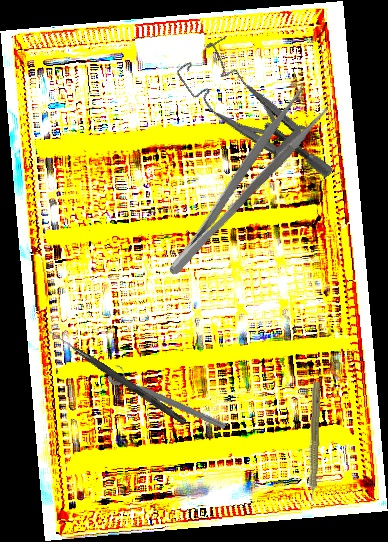Dressing Forceps: (149, 84, 332, 281)
Fixation Ring: (106, 362, 231, 433)
Handpiece: (303, 381, 323, 510)
Hook Surgical: (46, 328, 188, 426)
Speculum: (173, 25, 336, 214)
